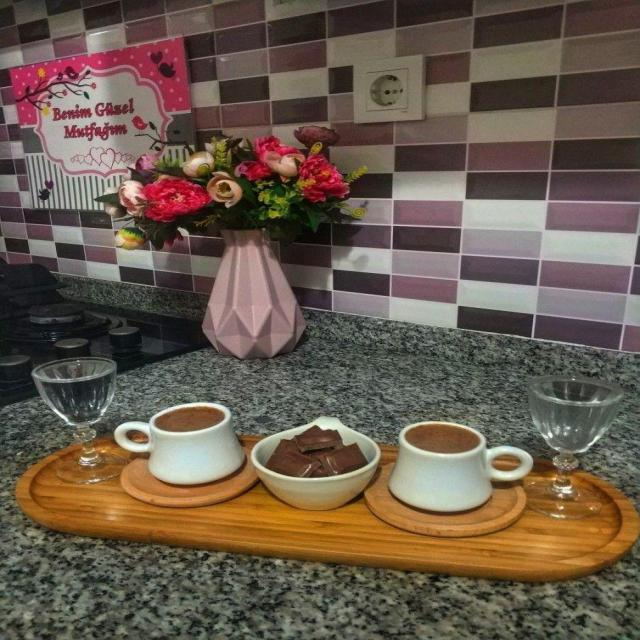cup-handle: (385, 420, 533, 515), (112, 401, 245, 487)
glass-wine: (523, 374, 625, 520), (29, 356, 125, 483)
